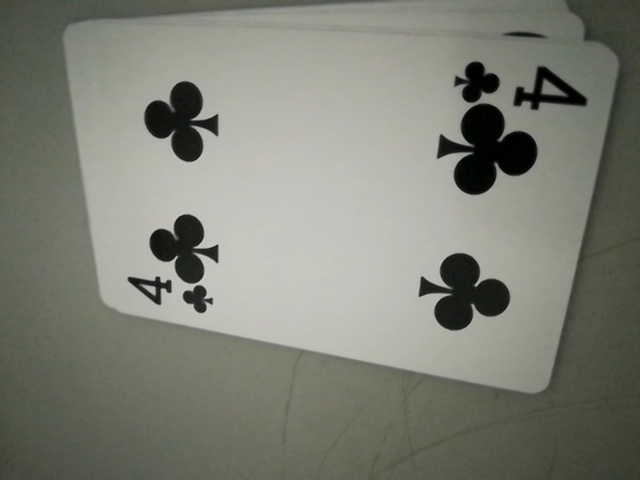mh 4: (454, 51, 585, 113), (117, 271, 221, 319)
